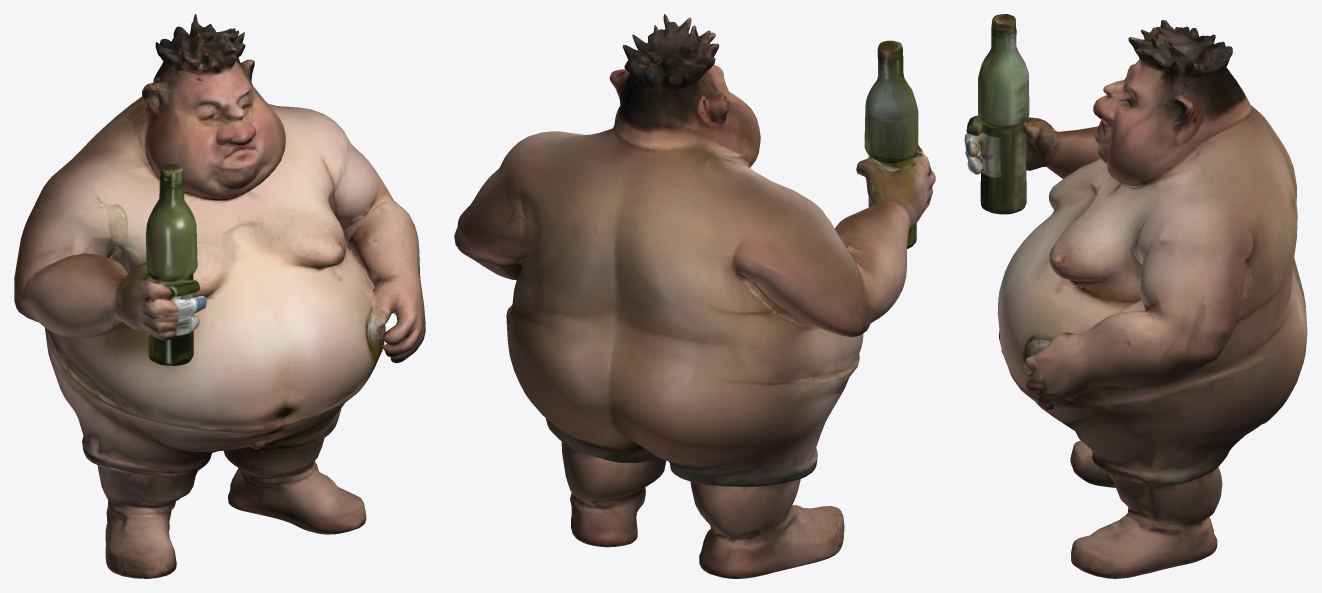
File: fatty.glb
The picture shows the model from 3 angles, left to right: view 1: azimuth 30°, elevation 25°; view 2: azimuth 150°, elevation 25°; view 3: azimuth 270°, elevation 25°; orthographic projection. The views are drawn at different scales.
Size of the model in its own units: 1.62 by 2 by 1.26.
Materials: 1 (1 with a texture image).
